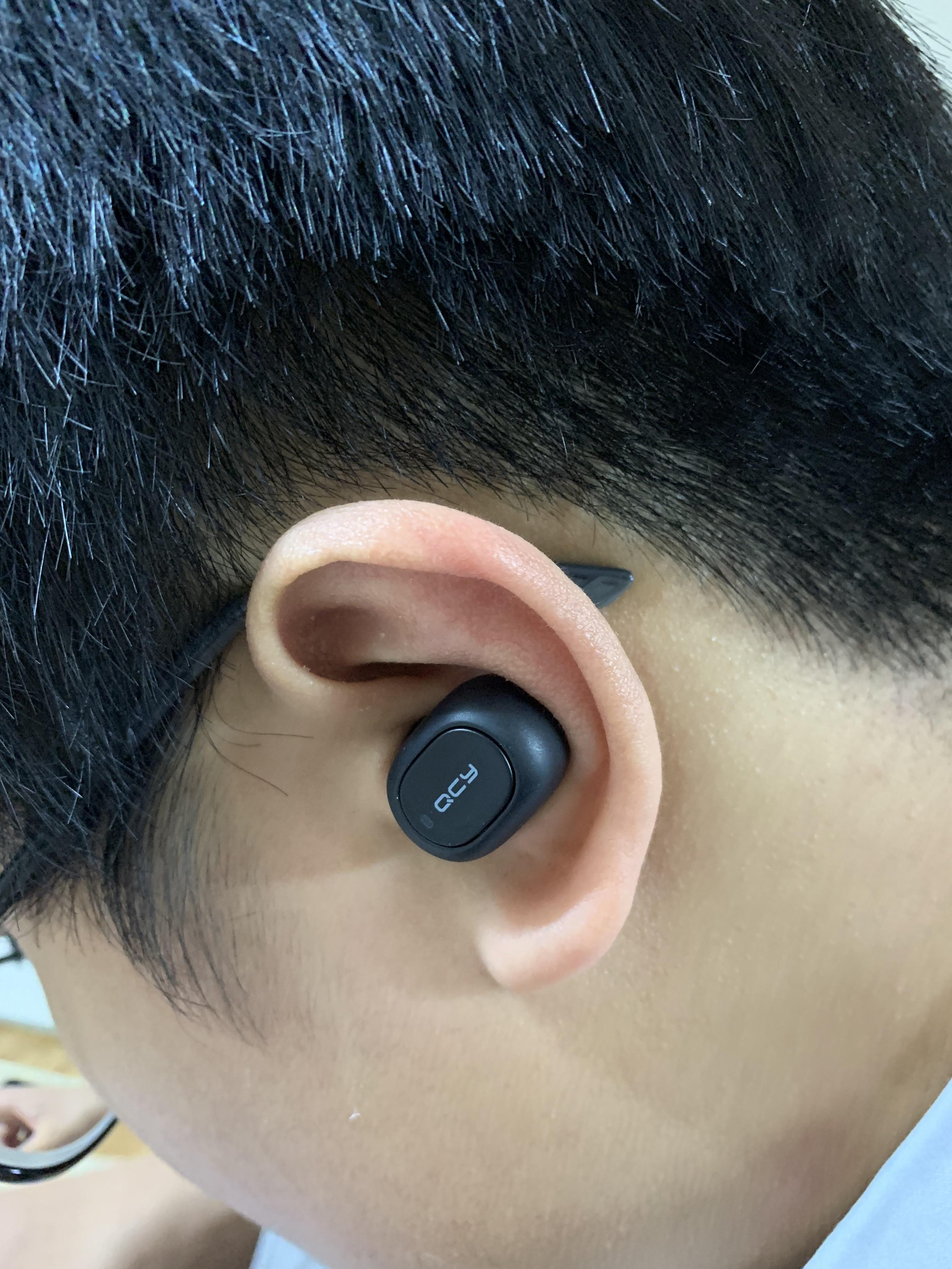earphone: (392, 646, 584, 882)
